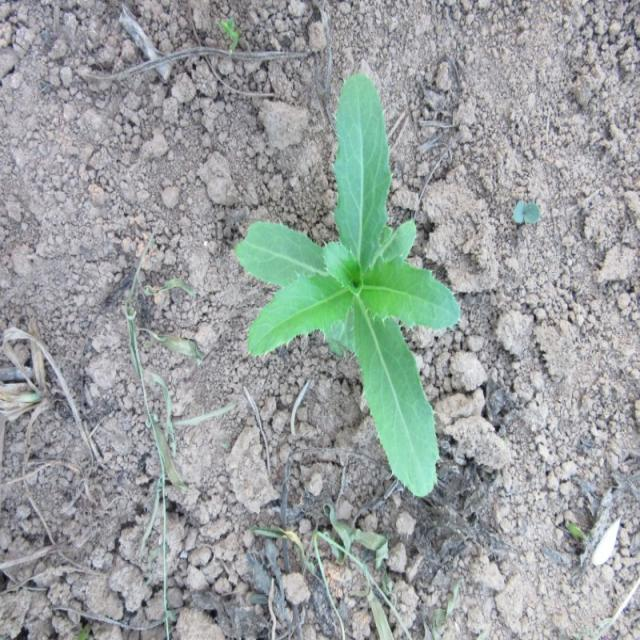cs: (234, 68, 463, 502)
